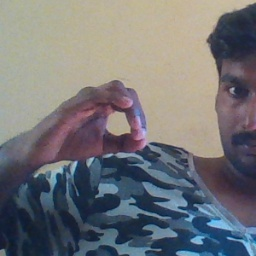O: (22, 76, 150, 174)
